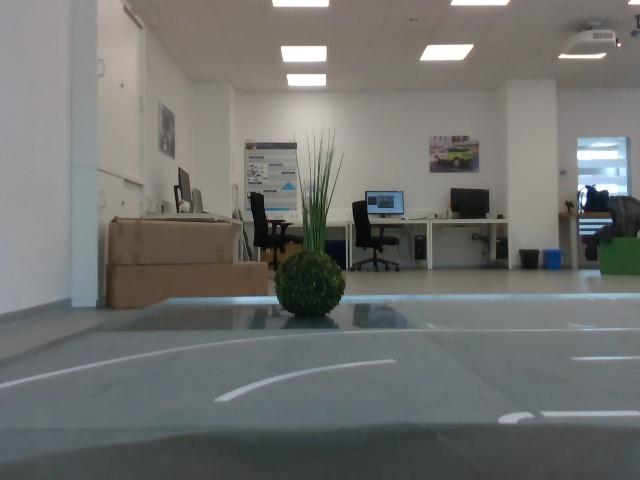potted plant: (293, 128, 350, 251), (271, 251, 348, 321)
